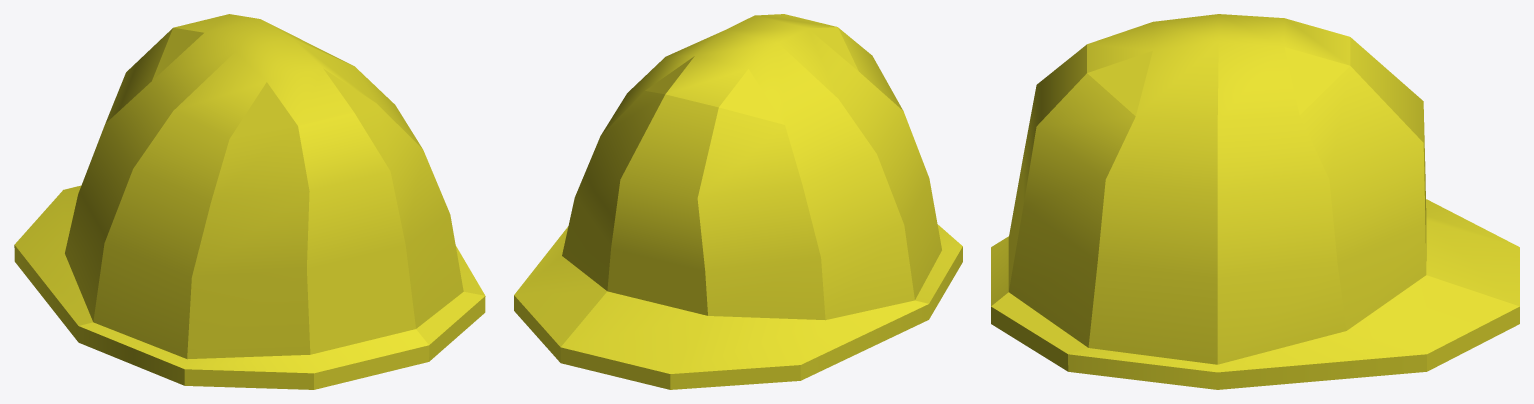
Rendered from hat_heavy.fbx.
The picture shows the model from 3 angles, left to right: view 1: azimuth 30°, elevation 25°; view 2: azimuth 150°, elevation 25°; view 3: azimuth 270°, elevation 25°; orthographic projection. The views are drawn at different scales.
Parts seen in each view (by area): view 1: pCylinder1; view 2: pCylinder1; view 3: pCylinder1.
Boxes of the visible parts, x1,y1,x2,y2 form: pCylinder1: (14,14,485,389); pCylinder1: (514,14,962,389); pCylinder1: (991,14,1519,389).
Size of the model in its own units: 9.33 by 6.06 by 10.91.
